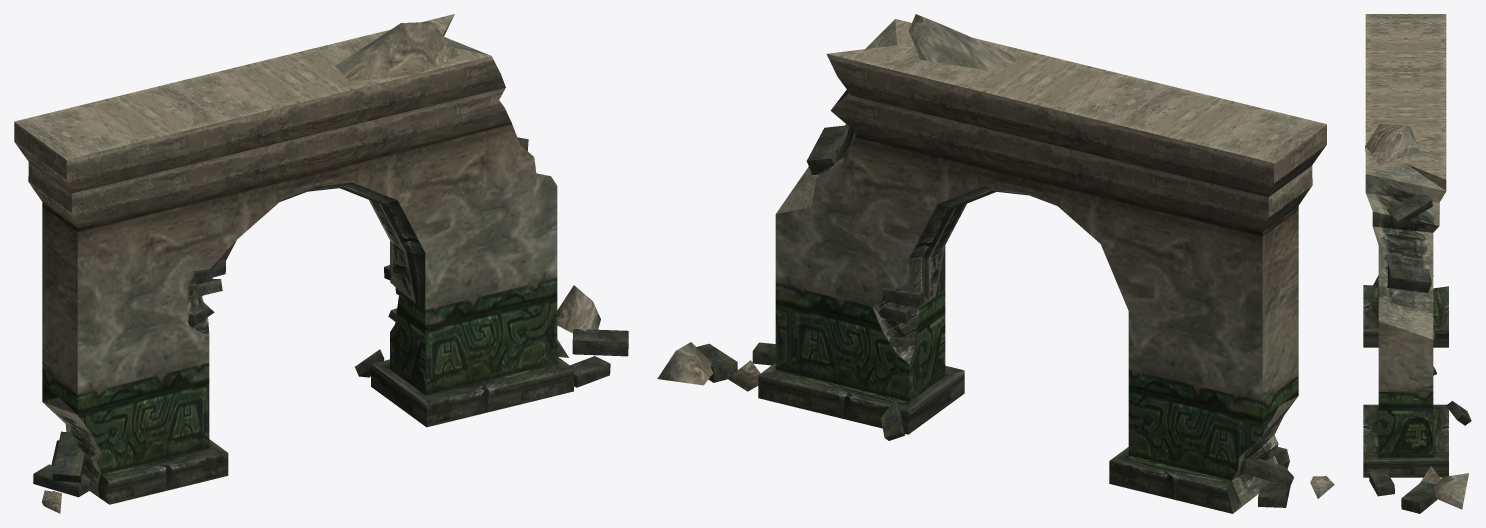
File: poqiang_xn_62.FBX
3 renders of one model, left to right at view 1: azimuth 30°, elevation 25°; view 2: azimuth 150°, elevation 25°; view 3: azimuth 270°, elevation 25°, orthographic. The views are drawn at different scales.
Visible parts, largest first — view 1: poqiang_xn_62; view 2: poqiang_xn_62; view 3: poqiang_xn_62.
Part boxes in pixels (x1=…): poqiang_xn_62: x1=14, y1=14, x2=628, y2=513; poqiang_xn_62: x1=657, y1=14, x2=1334, y2=513; poqiang_xn_62: x1=1363, y1=14, x2=1471, y2=513.
Size of what is drawn, in the model's own units: 639 by 387 by 127.
